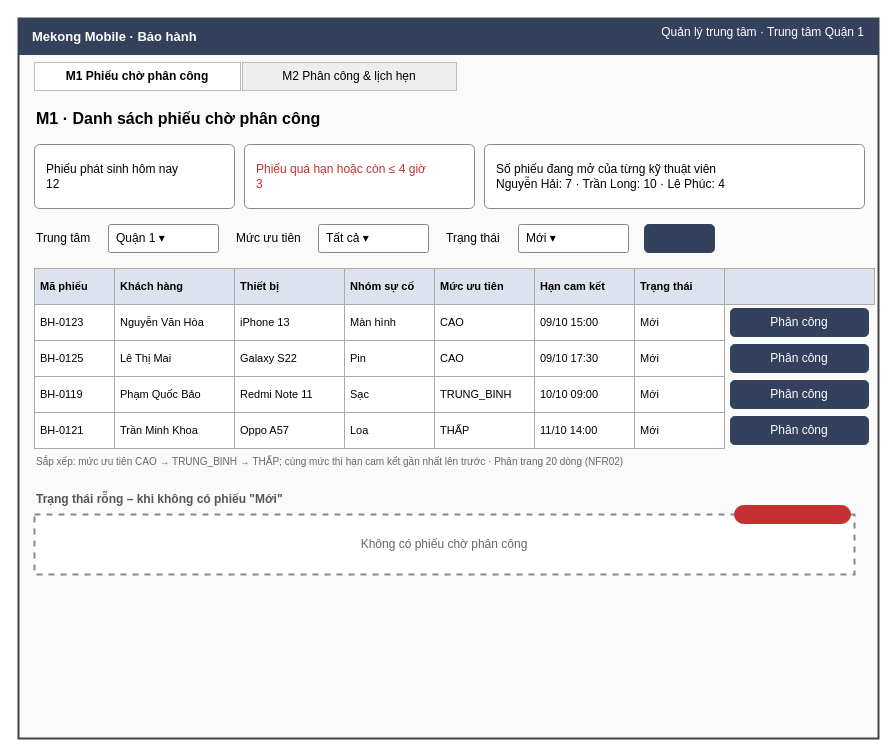
Some shapes in this 896 by 756 pixel diagram are drawn without their labels. The shapes that lost their labels are listed below. From the top down, each one's centre as x and y in pixels, then its label:
At (679,238): "Lọc".
At (799,286): "Thao tác".
At (792,514): "Ngoại lệ 2a · UC01".
